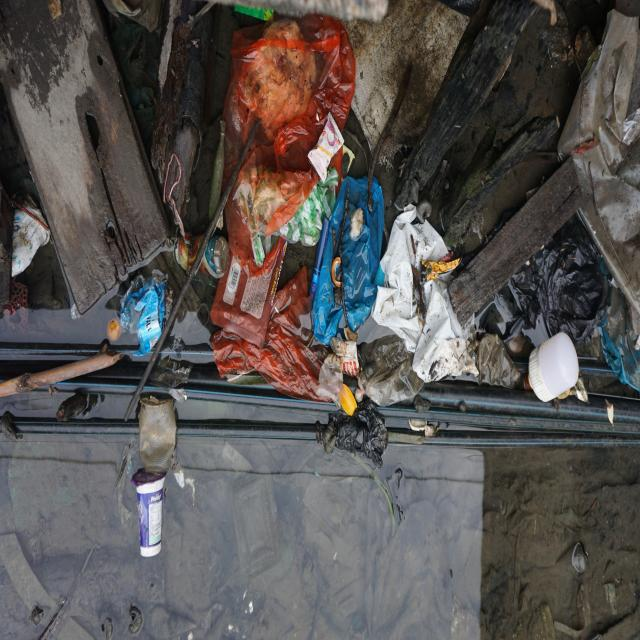Botol Plastik: (176, 233, 230, 282)
Bungkus Makanan: (216, 232, 285, 347), (309, 112, 345, 182)
Bungkus Minuman: (135, 466, 169, 572)
Kantong Plastik: (226, 19, 358, 187), (213, 273, 330, 404), (311, 174, 382, 349)
